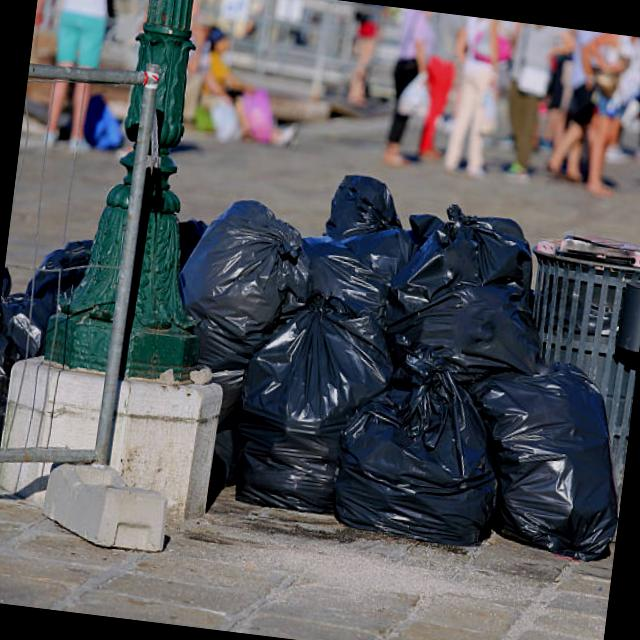garbage: (153, 163, 640, 570)
